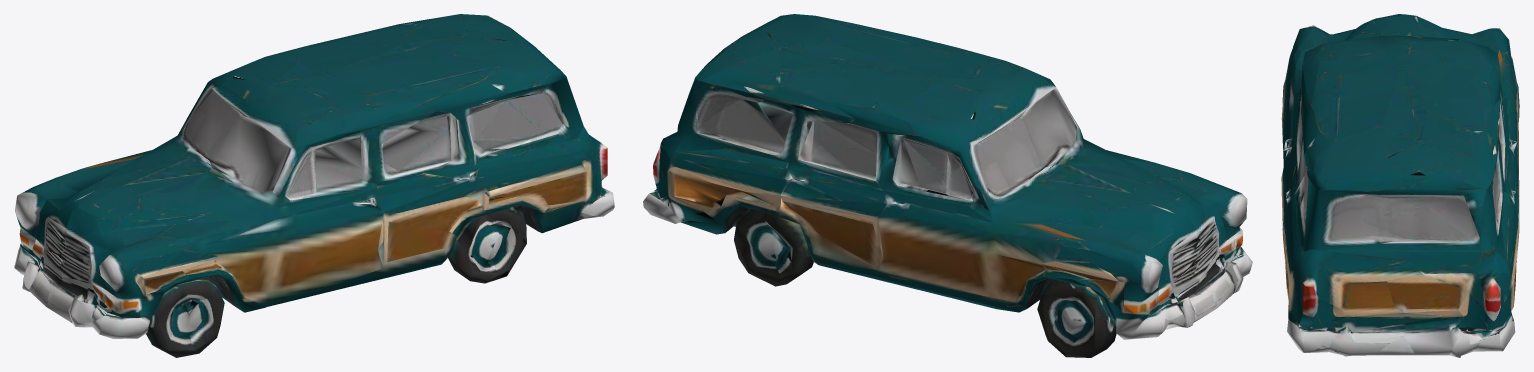
The model's file is getkong-auto6.glb.
3 views of the same model, side by side, from view 1: azimuth 30°, elevation 25°; view 2: azimuth 150°, elevation 25°; view 3: azimuth 270°, elevation 25° (orthographic). The views are drawn at different scales.
Parts seen in each view (by area): view 1: output_unwrapped; view 2: output_unwrapped; view 3: output_unwrapped.
Boxes of the visible parts, x1,y1,x2,y2 form: output_unwrapped: (14,14,614,357); output_unwrapped: (643,14,1252,357); output_unwrapped: (1281,14,1519,357).
Size of the model in its own units: 1.9 by 0.6892 by 0.7122.
1 material, 1 textured.
